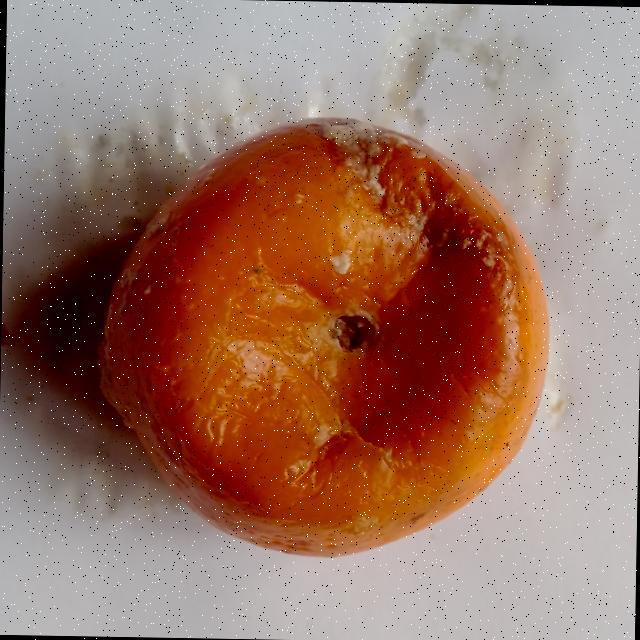Rotten: (87, 112, 557, 562)
